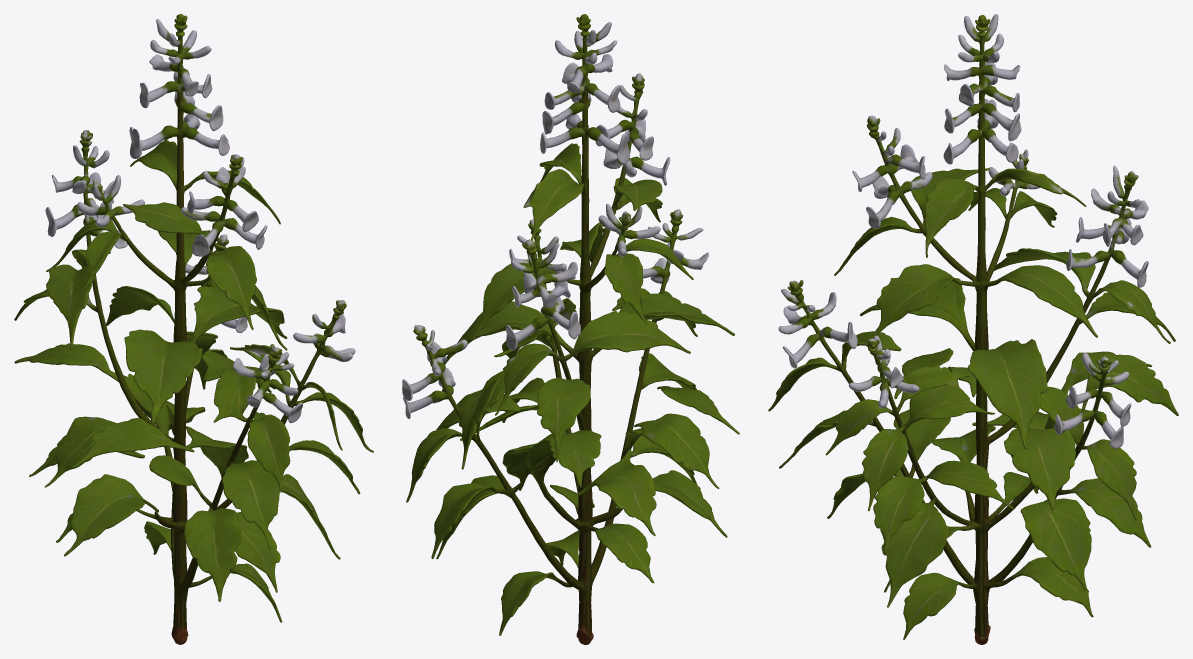
Rendered from kumiskucing.glb.
The picture shows the model from 3 angles, left to right: view 1: azimuth 30°, elevation 25°; view 2: azimuth 150°, elevation 25°; view 3: azimuth 270°, elevation 25°; orthographic projection.
Parts seen in each view (by area): view 1: world; view 2: world; view 3: world.
Boxes of the visible parts, x1,y1,x2,y2 form: world: (14,14,373,644); world: (402,14,739,644); world: (768,14,1178,644).
Size of the model in its own units: 0.4521 by 0.9999 by 0.5919.
Materials: 1 (1 with a texture image).
